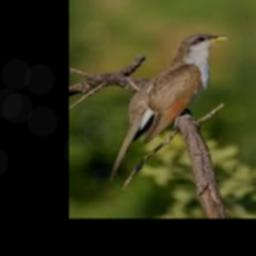Cuckoo: (110, 34, 231, 180)
